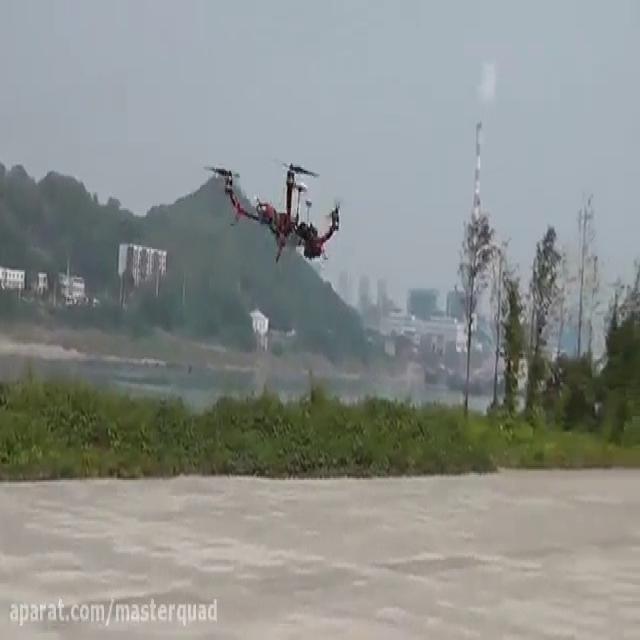drone: (204, 154, 346, 266)
